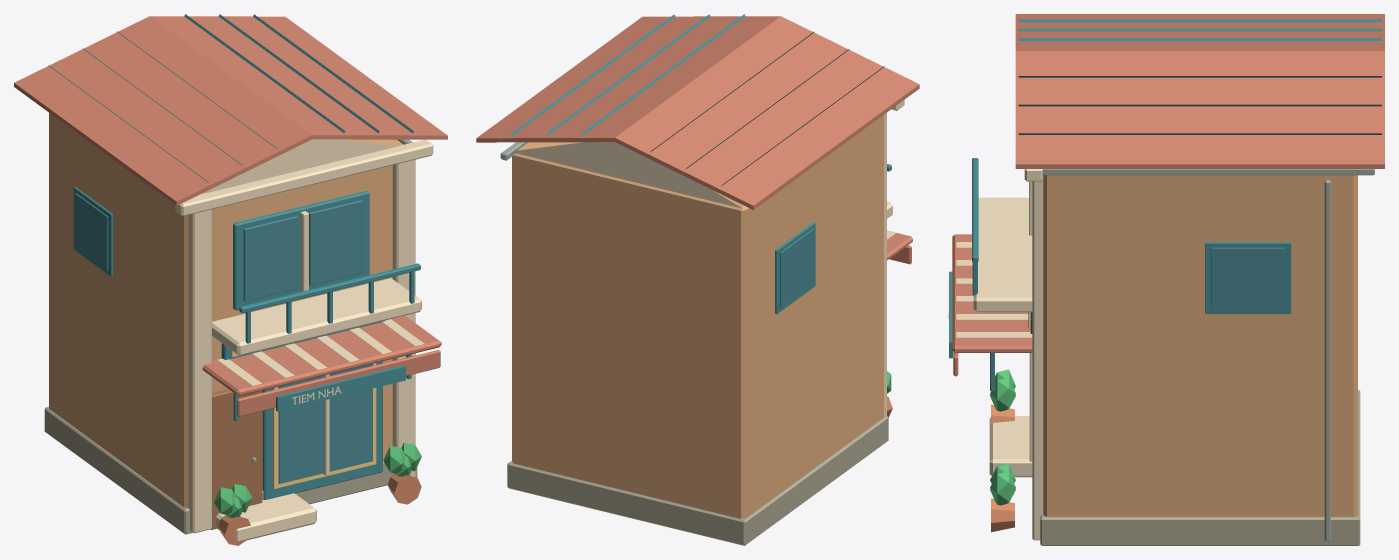
File: roadside-shop.glb
The picture shows the model from 3 angles, left to right: view 1: azimuth 30°, elevation 25°; view 2: azimuth 150°, elevation 25°; view 3: azimuth 270°, elevation 25°; orthographic projection. The views are drawn at different scales.
Visible parts, largest first — view 1: batch_red clay roof, main ochre shell, batch_sunlit cream plaster, batch_rain dark glass, batch_deep teal trim, flood stained plinth, shop door, batch_fresh leaves, batch_terracotta pots, batch_warm shop interior; view 2: main ochre shell, batch_red clay roof, flood stained plinth, batch_sunlit cream plaster, batch_deep teal trim, batch_rain dark glass; view 3: main ochre shell, batch_red clay roof, batch_sunlit cream plaster, batch_deep teal trim, flood stained plinth, batch_zinc gutter, batch_rain dark glass, batch_fresh leaves, batch_terracotta pots.
Part boxes in pixels (x1,y1,x2,y2): batch_red clay roof: (14, 16, 447, 416); main ochre shell: (49, 113, 403, 507); batch_sunlit cream plaster: (175, 139, 433, 541); batch_rain dark glass: (75, 193, 372, 483); batch_deep teal trim: (48, 14, 420, 499); flood stained plinth: (44, 406, 417, 534); shop door: (210, 389, 262, 529); batch_fresh leaves: (214, 442, 421, 517); batch_terracotta pots: (218, 473, 421, 545); batch_warm shop interior: (231, 351, 376, 488); main ochre shell: (512, 115, 883, 518); batch_red clay roof: (476, 16, 919, 264); flood stained plinth: (507, 415, 888, 545); batch_sunlit cream plaster: (513, 100, 904, 415); batch_deep teal trim: (511, 14, 891, 314); batch_rain dark glass: (780, 228, 813, 308); main ochre shell: (1043, 175, 1357, 516); batch_red clay roof: (952, 14, 1384, 376); batch_sunlit cream plaster: (948, 169, 1043, 540); batch_deep teal trim: (949, 19, 1381, 391); flood stained plinth: (1040, 389, 1360, 545); batch_zinc gutter: (1042, 169, 1374, 541); batch_rain dark glass: (1211, 247, 1284, 309); batch_fresh leaves: (990, 369, 1015, 505); batch_terracotta pots: (991, 404, 1014, 532).
Size of the model in its own units: 4.74 by 6.38 by 5.82.
